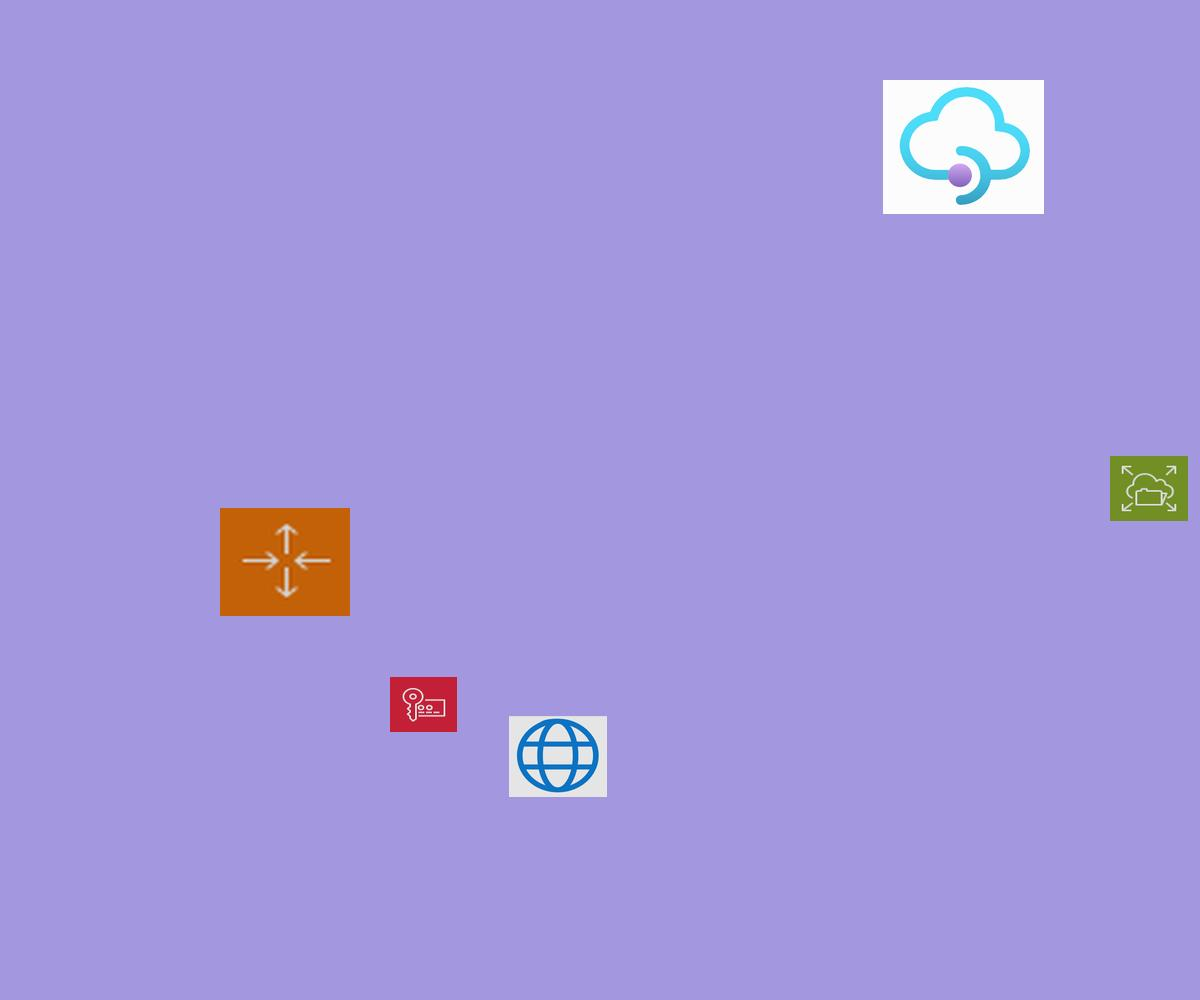AWS-EFS: (1110, 456, 1188, 521)
AWS-Key-Management-Service: (390, 677, 457, 732)
AWS-Scaling-group: (220, 508, 350, 616)
Azure_api_gateway: (883, 80, 1044, 214)
Azure_http: (509, 716, 607, 797)
